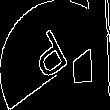P_SE: (31, 24, 79, 86)
